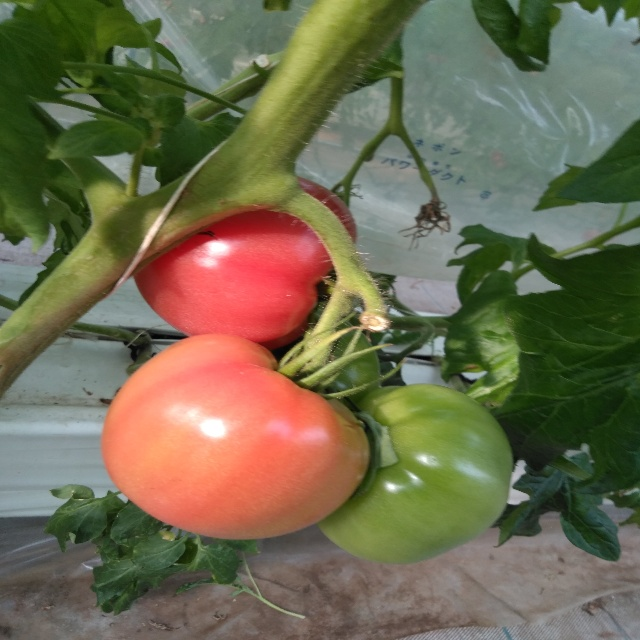b_fully_ripened: (132, 170, 357, 350)
b_green: (318, 384, 513, 565), (269, 308, 381, 411)
b_half_ripened: (101, 334, 370, 540)
